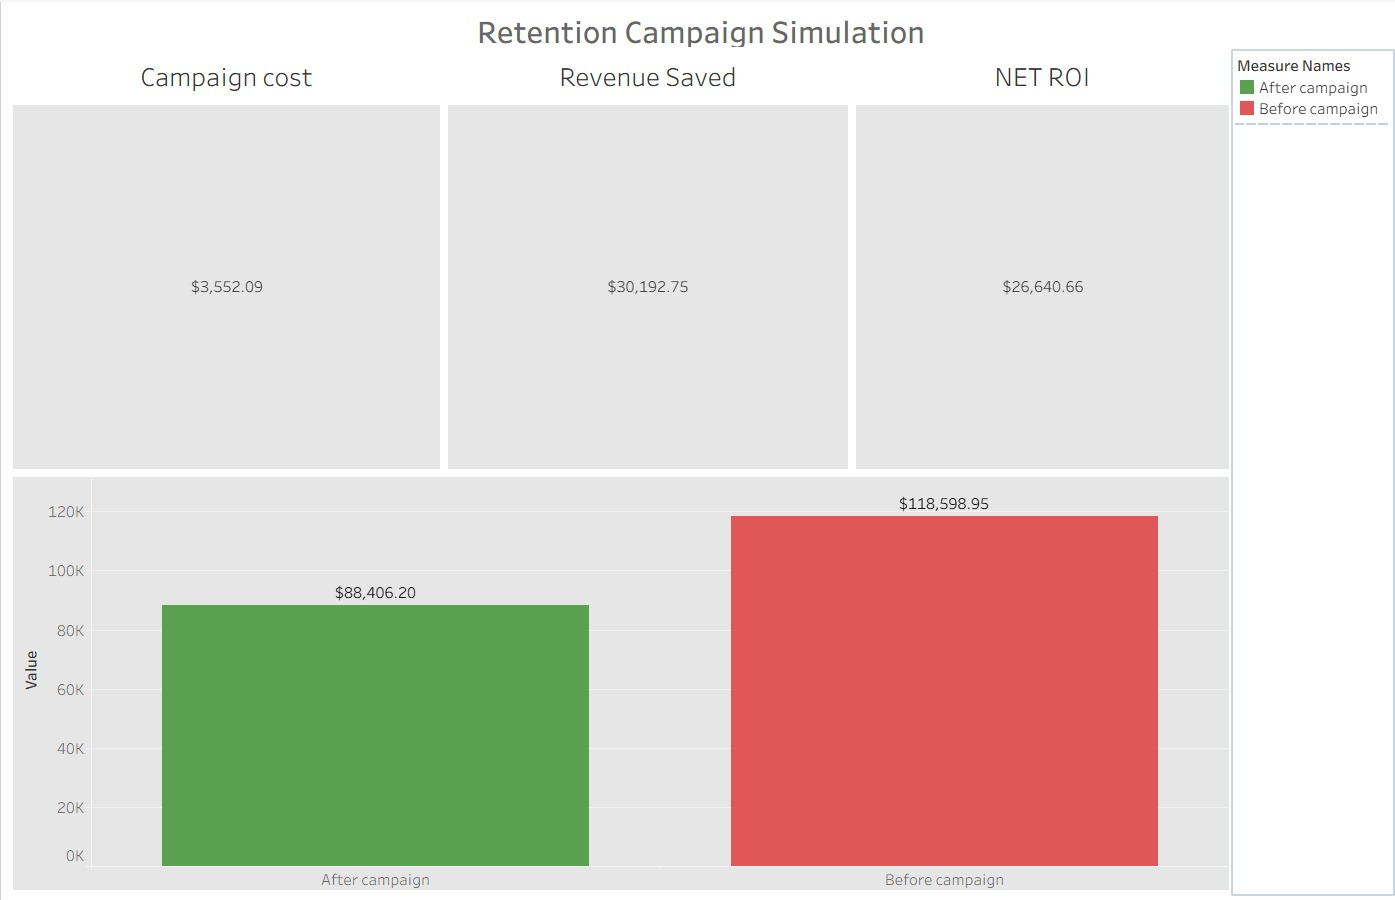

Layout of this report page (visuals, bound fields, positions):
{"tool":"tableau","page":{"name":"Retention campaign","canvas":[1400,900],"ordinal":2},"visuals":[{"type":"text","box":[8,8,1384,41]},{"type":"worksheet","title":"Campaign cost","mark":"Automatic","box":[8,49,435,421.5]},{"type":"worksheet","title":"Revenue Saved","mark":"Automatic","box":[443,49,408,421.5]},{"type":"worksheet","title":"NET ROI","mark":"Automatic","box":[851,49,381,421.5]},{"type":"legend","title":"retention impact","param":"[federated.0lqzjfw00e4uwl1774z2b1212a4m].[:Measure Names]","box":[1232,49,160,72]},{"type":"worksheet","title":"retention impact","mark":"Bar","box":[8,470.5,1224,421.5]}]}

Visuals, with their boxes in screenshot pixels (x1, y1, x2, y2), scaled from the page's 1400x900 canvas onto the 1395x900 screenshot:
text: box=[8, 8, 1387, 49]
"Campaign cost" worksheet: box=[8, 49, 441, 470]
"Revenue Saved" worksheet: box=[441, 49, 848, 470]
"NET ROI" worksheet: box=[848, 49, 1228, 470]
"retention impact" legend: box=[1228, 49, 1387, 121]
"retention impact" worksheet (Bar marks): box=[8, 470, 1228, 892]
